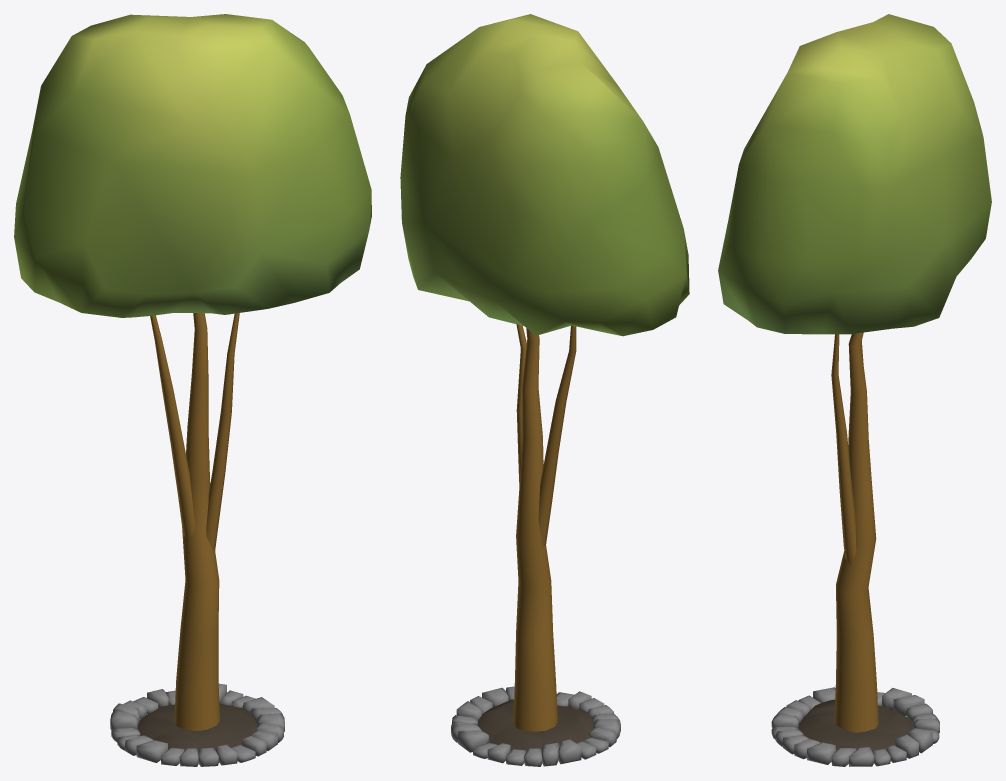
3 views of the same model, side by side, from view 1: azimuth 30°, elevation 25°; view 2: azimuth 150°, elevation 25°; view 3: azimuth 270°, elevation 25° (orthographic). The views are drawn at different scales.
Parts seen in each view (by area): view 1: Vert.004; view 2: Vert.004; view 3: Vert.004.
Boxes of the visible parts, <box> form: Vert.004: <box>14,14,371,766</box>; Vert.004: <box>400,14,689,766</box>; Vert.004: <box>718,14,991,766</box>.
Size of the model in its own units: 292 by 672 by 242.
